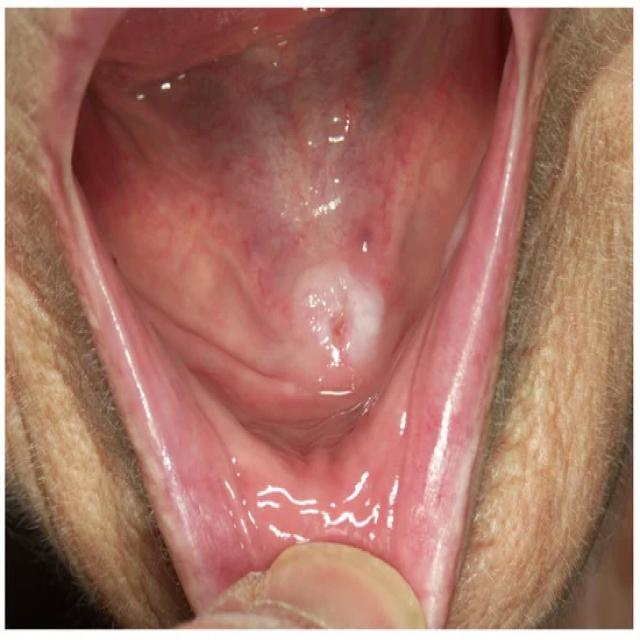Cancer: (279, 230, 413, 422)
